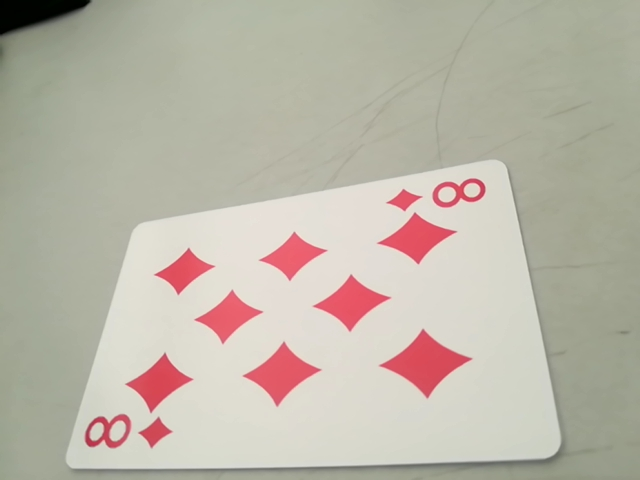fk 8: (76, 408, 177, 462), (390, 173, 496, 214)
